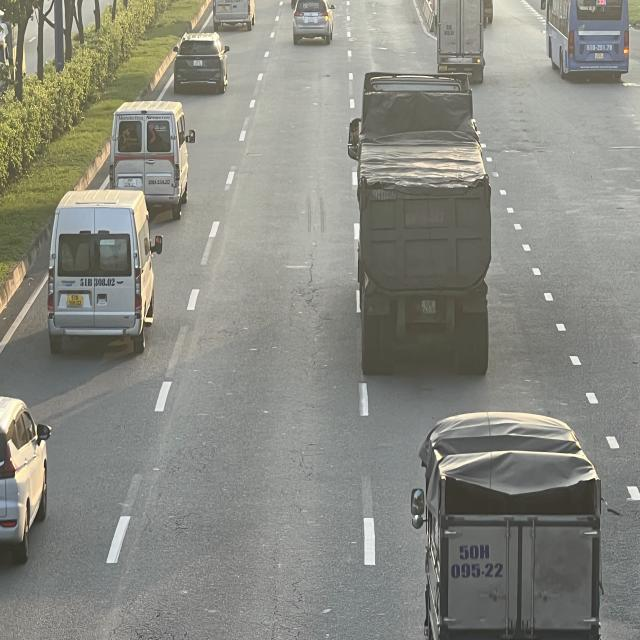car: (174, 34, 230, 95), (289, 0, 335, 43)
coach: (541, 0, 631, 82)
container: (348, 68, 491, 373)
truck: (418, 412, 607, 640), (430, 0, 490, 79)
van: (43, 191, 161, 358), (112, 99, 195, 214)
